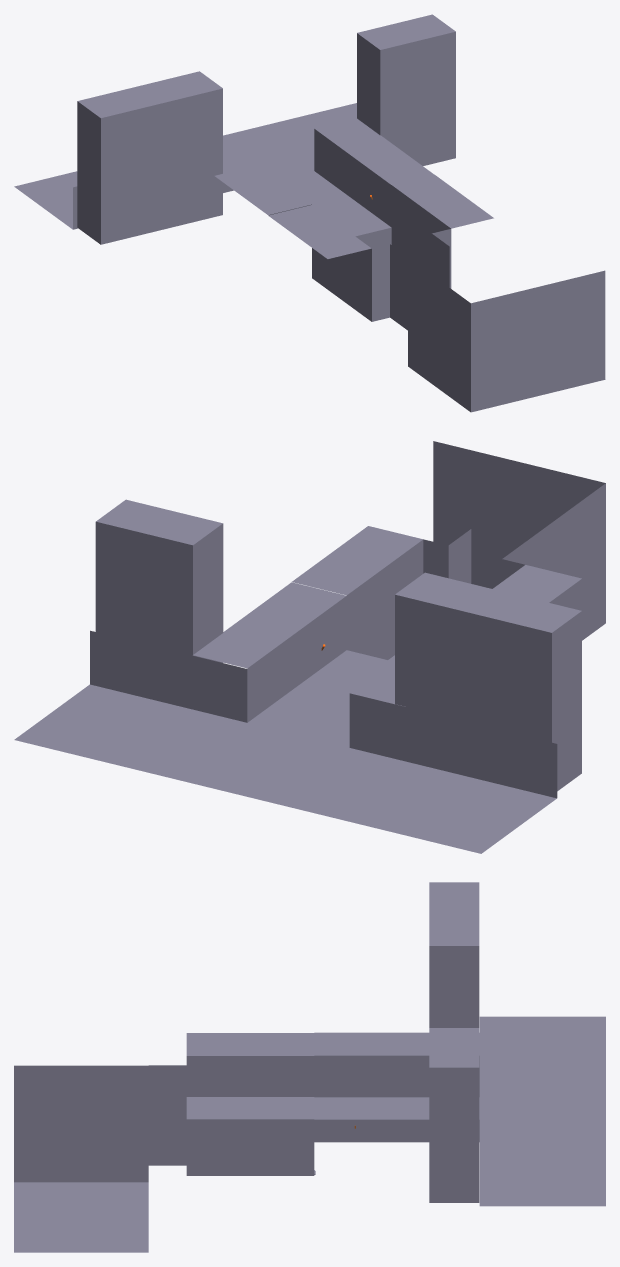
The model's file is balloonroom.fbx.
3 renders of one model, top to bottom at view 1: azimuth 30°, elevation 25°; view 2: azimuth 150°, elevation 25°; view 3: azimuth 270°, elevation 25°, orthographic. The views are drawn at different scales.
Visible parts, largest first — view 1: Cube, Pillar, Pillar.001; view 2: Cube, Pillar, Pillar.001; view 3: Cube, Pillar.001, Pillar.
Boxes of the visible parts, left/top/right/bottom form: Cube: left=14, top=103, right=605, bottom=412; Pillar: left=77, top=71, right=222, bottom=244; Pillar.001: left=357, top=14, right=455, bottom=165; Cube: left=14, top=441, right=605, bottom=853; Pillar: left=395, top=572, right=581, bottom=791; Pillar.001: left=95, top=499, right=223, bottom=662; Cube: left=14, top=1016, right=605, bottom=1252; Pillar.001: left=429, top=1028, right=479, bottom=1202; Pillar: left=429, top=882, right=479, bottom=1027.
Bounding box in the file's own units: 1792 × 917 × 2363.
